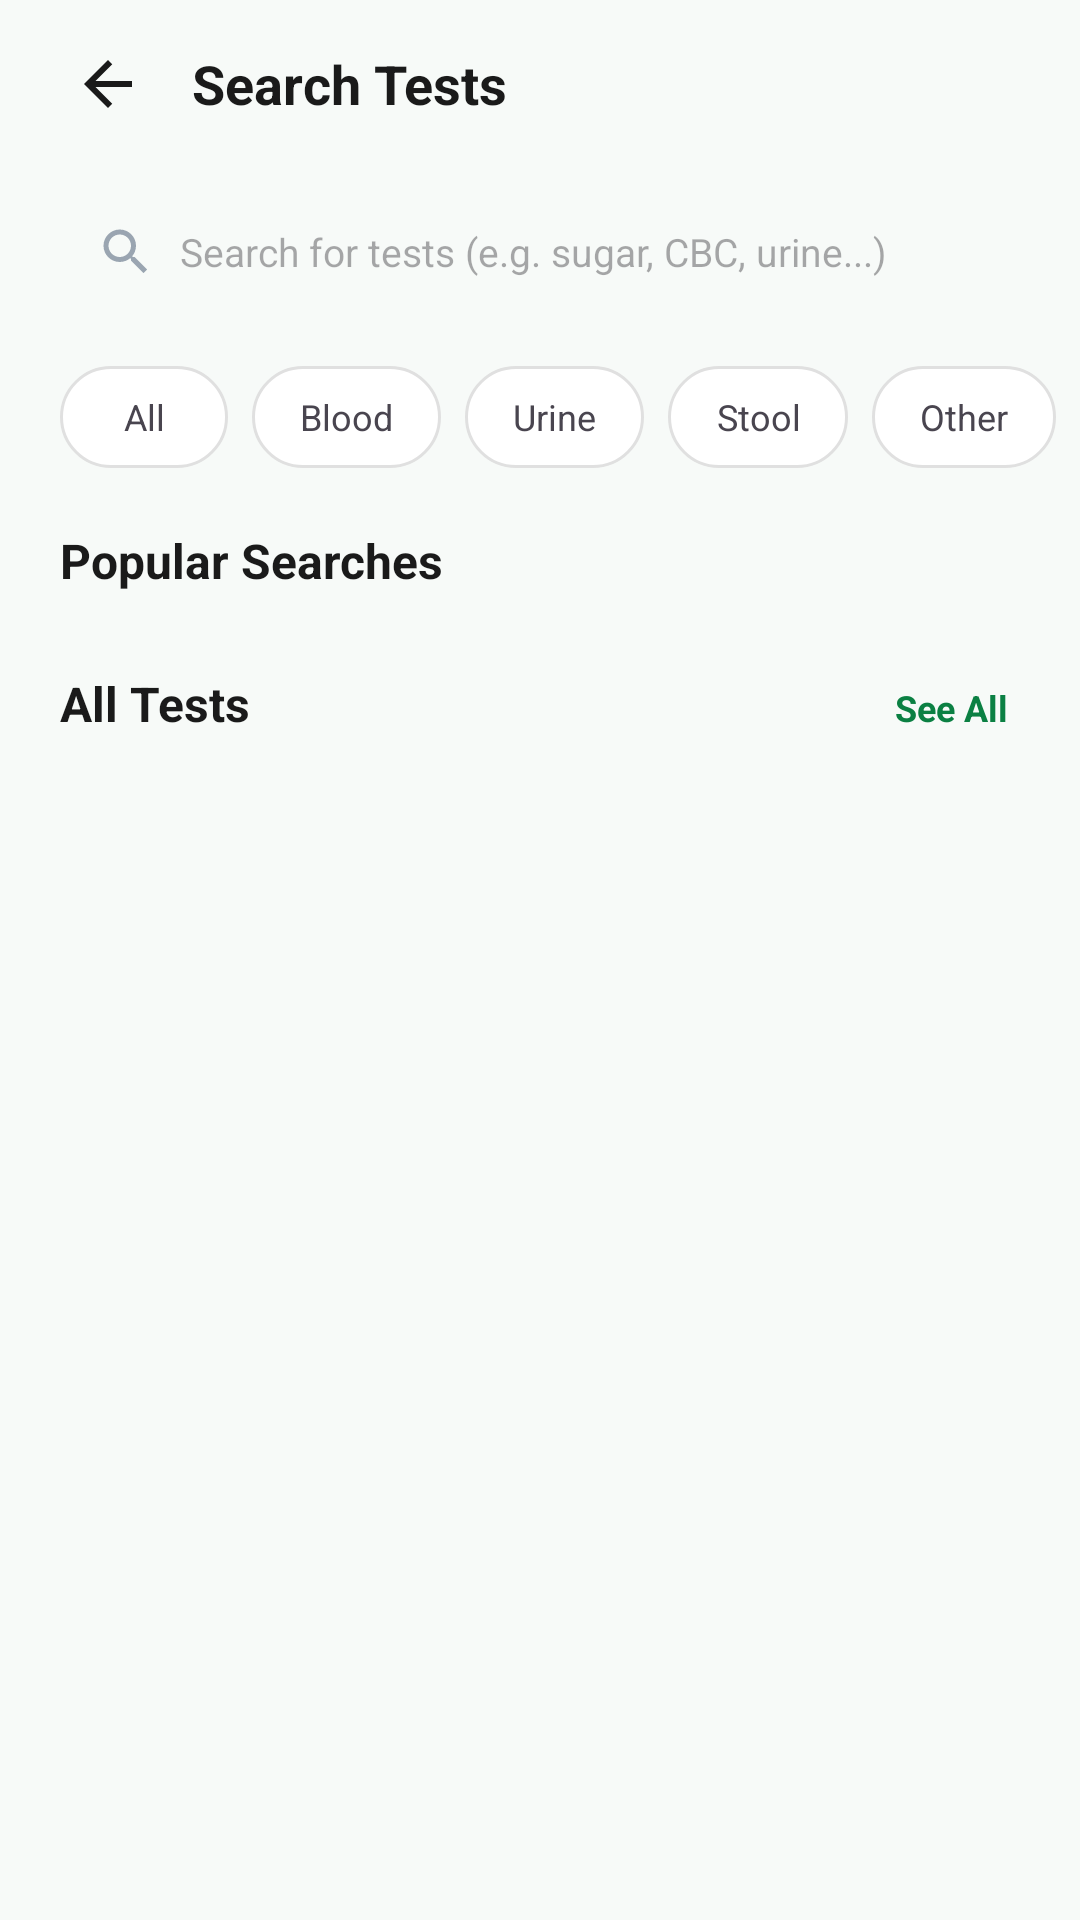

Icons on this 1080px×1920px Android screen, each with the point to tap as (x,y):
Back: (108,84)
